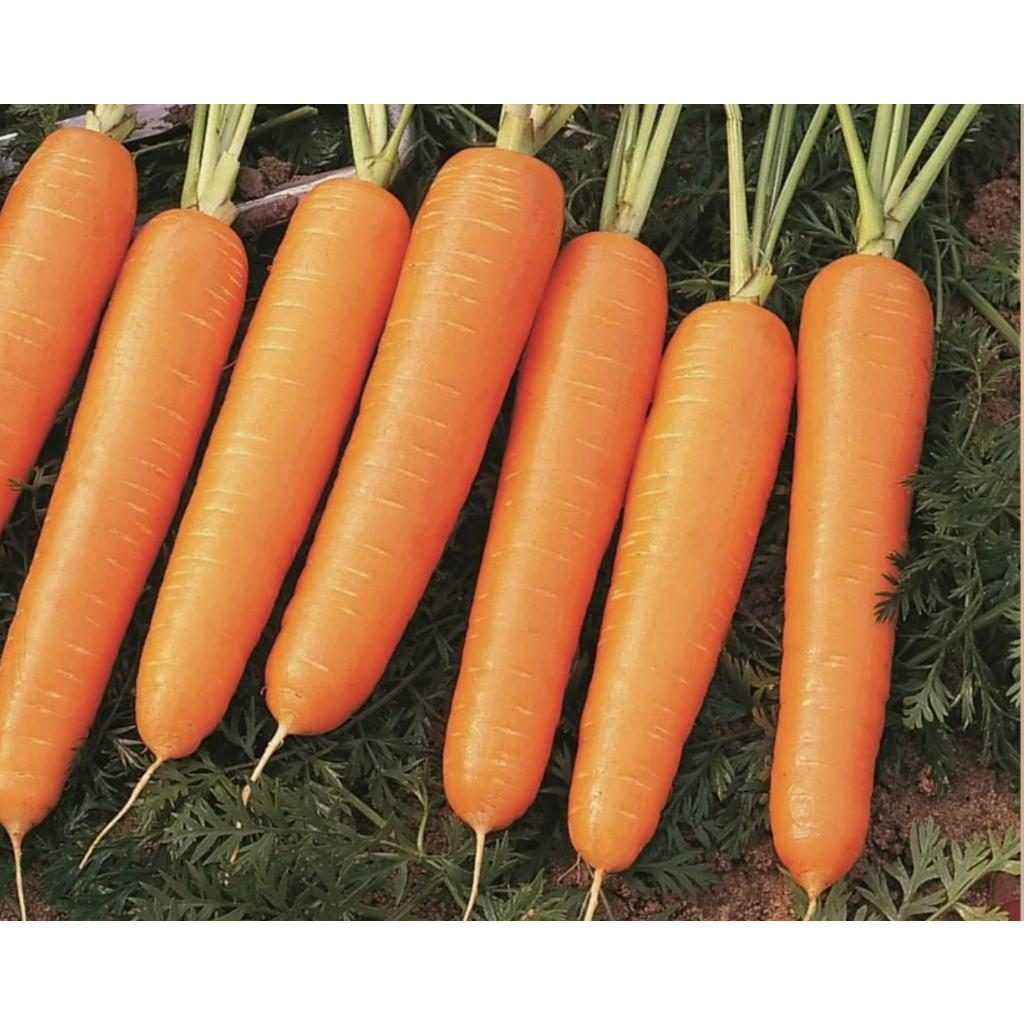carrot: (266, 147, 562, 733), (0, 207, 248, 886), (136, 177, 410, 759), (444, 231, 668, 894), (568, 301, 796, 917), (770, 253, 934, 898), (0, 127, 136, 528)
